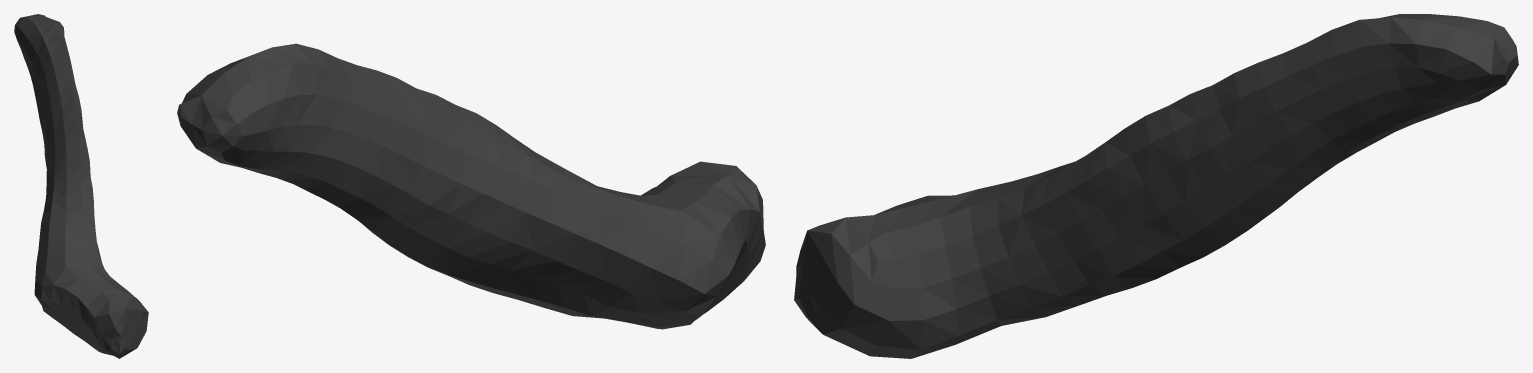
File: L_thyrohyoid.glb
3 views of the same model, side by side, from view 1: azimuth 30°, elevation 25°; view 2: azimuth 150°, elevation 25°; view 3: azimuth 270°, elevation 25° (orthographic). The views are drawn at different scales.
Parts seen in each view (by area): view 1: L_thyrohyoid; view 2: L_thyrohyoid; view 3: L_thyrohyoid.
Part boxes in pixels (x1,y1,x2,y2): L_thyrohyoid: [14, 14, 148, 358]; L_thyrohyoid: [177, 43, 765, 329]; L_thyrohyoid: [794, 14, 1518, 358].
Bounding box in the file's own units: 0.2316 × 0.3232 × 0.5254.
Materials: 1 (1 with a texture image).
